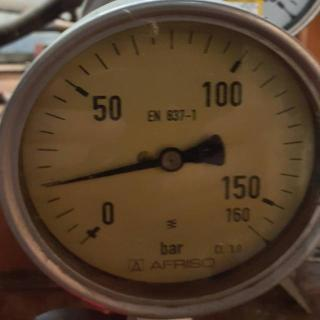gauge: (0, 0, 320, 320), (72, 198, 128, 254), (226, 203, 276, 247), (157, 146, 185, 173), (40, 178, 60, 190)
